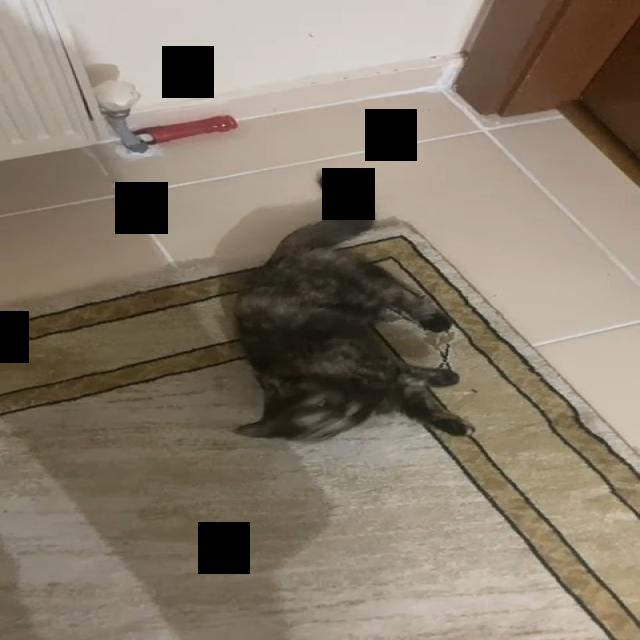authorized: (229, 171, 476, 443)
